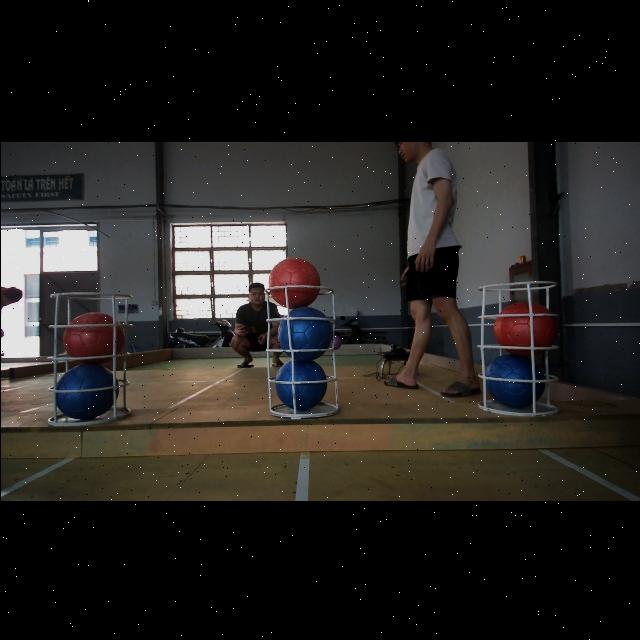B: (54, 362, 118, 418), (485, 353, 545, 409), (276, 304, 332, 360), (275, 357, 325, 409)
R: (494, 299, 554, 355), (62, 311, 125, 363), (267, 256, 319, 306)
